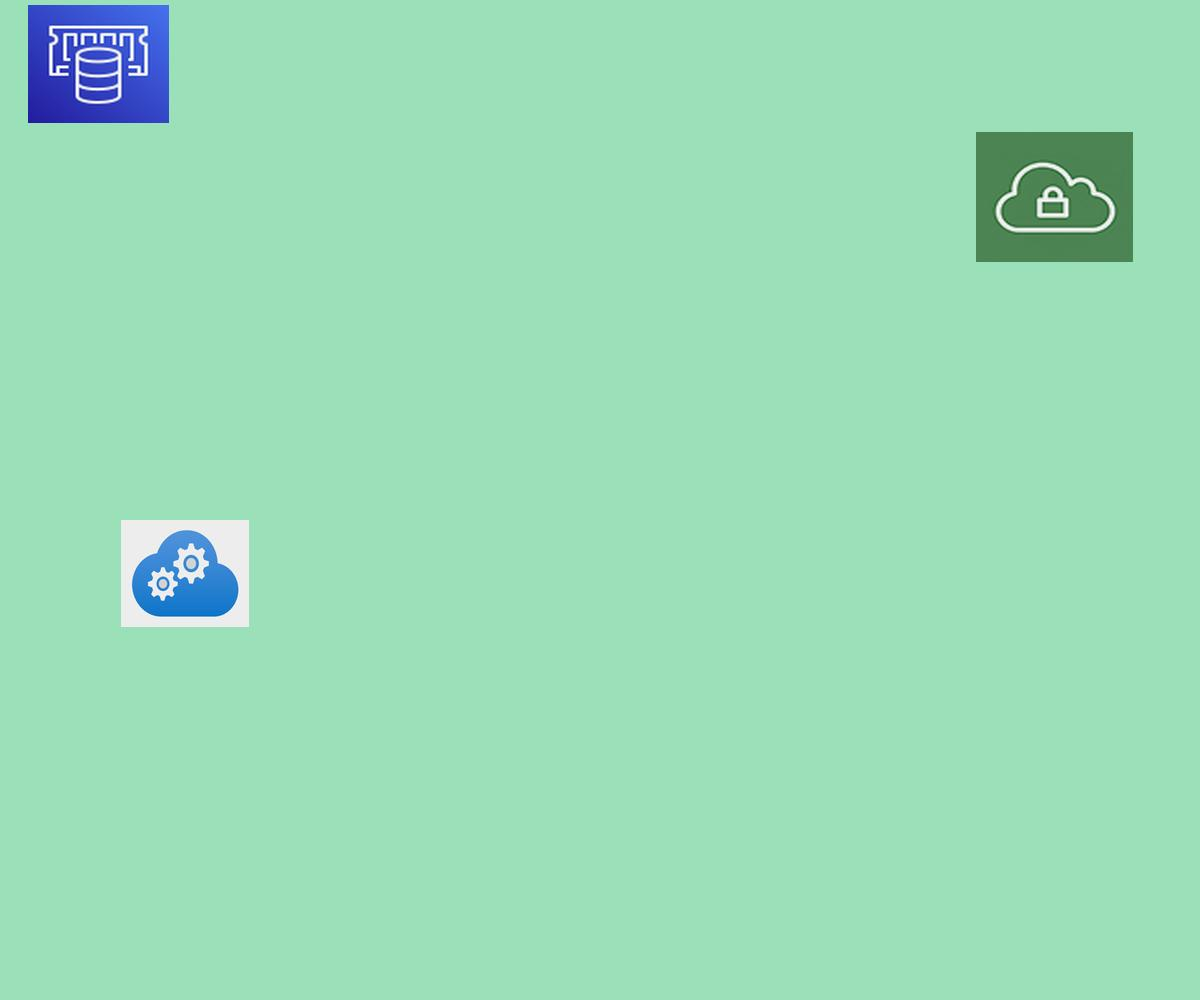AWS-ElastiCache: (28, 5, 169, 123)
AWS-Private_vpc: (976, 132, 1133, 262)
Azure_cloud_services: (121, 520, 249, 627)
